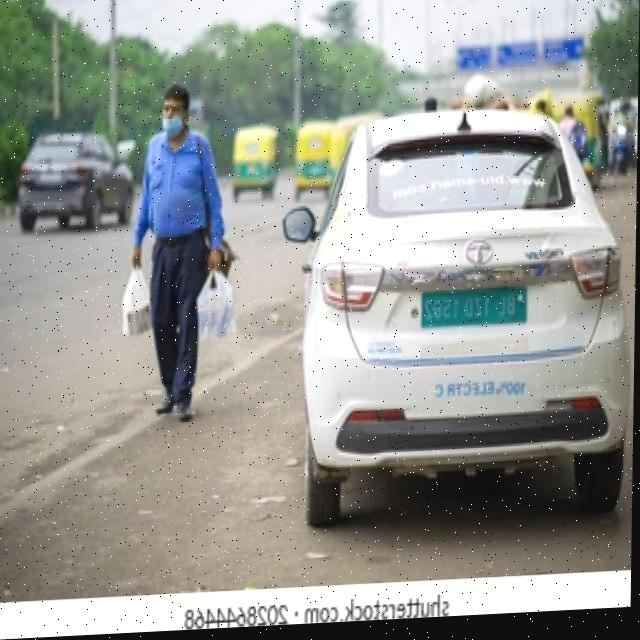plate: (421, 290, 531, 333)
